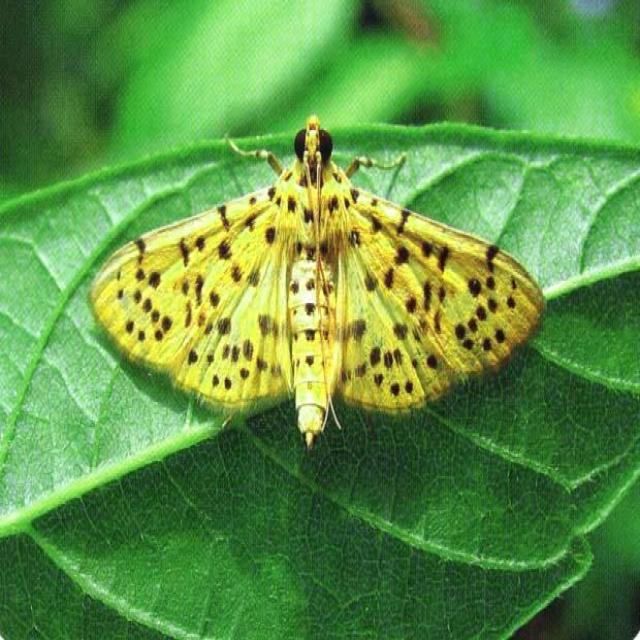peach borer: (88, 115, 556, 449)
